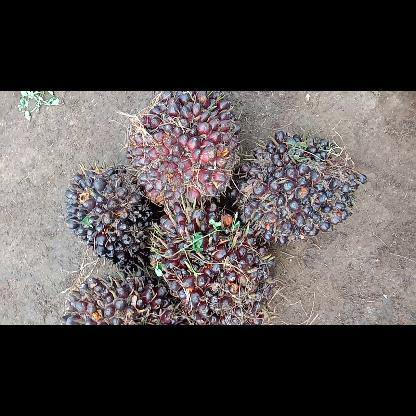TBS mentah: (226, 129, 368, 247), (146, 200, 276, 324), (124, 91, 246, 215), (63, 164, 159, 276), (57, 270, 189, 324)
